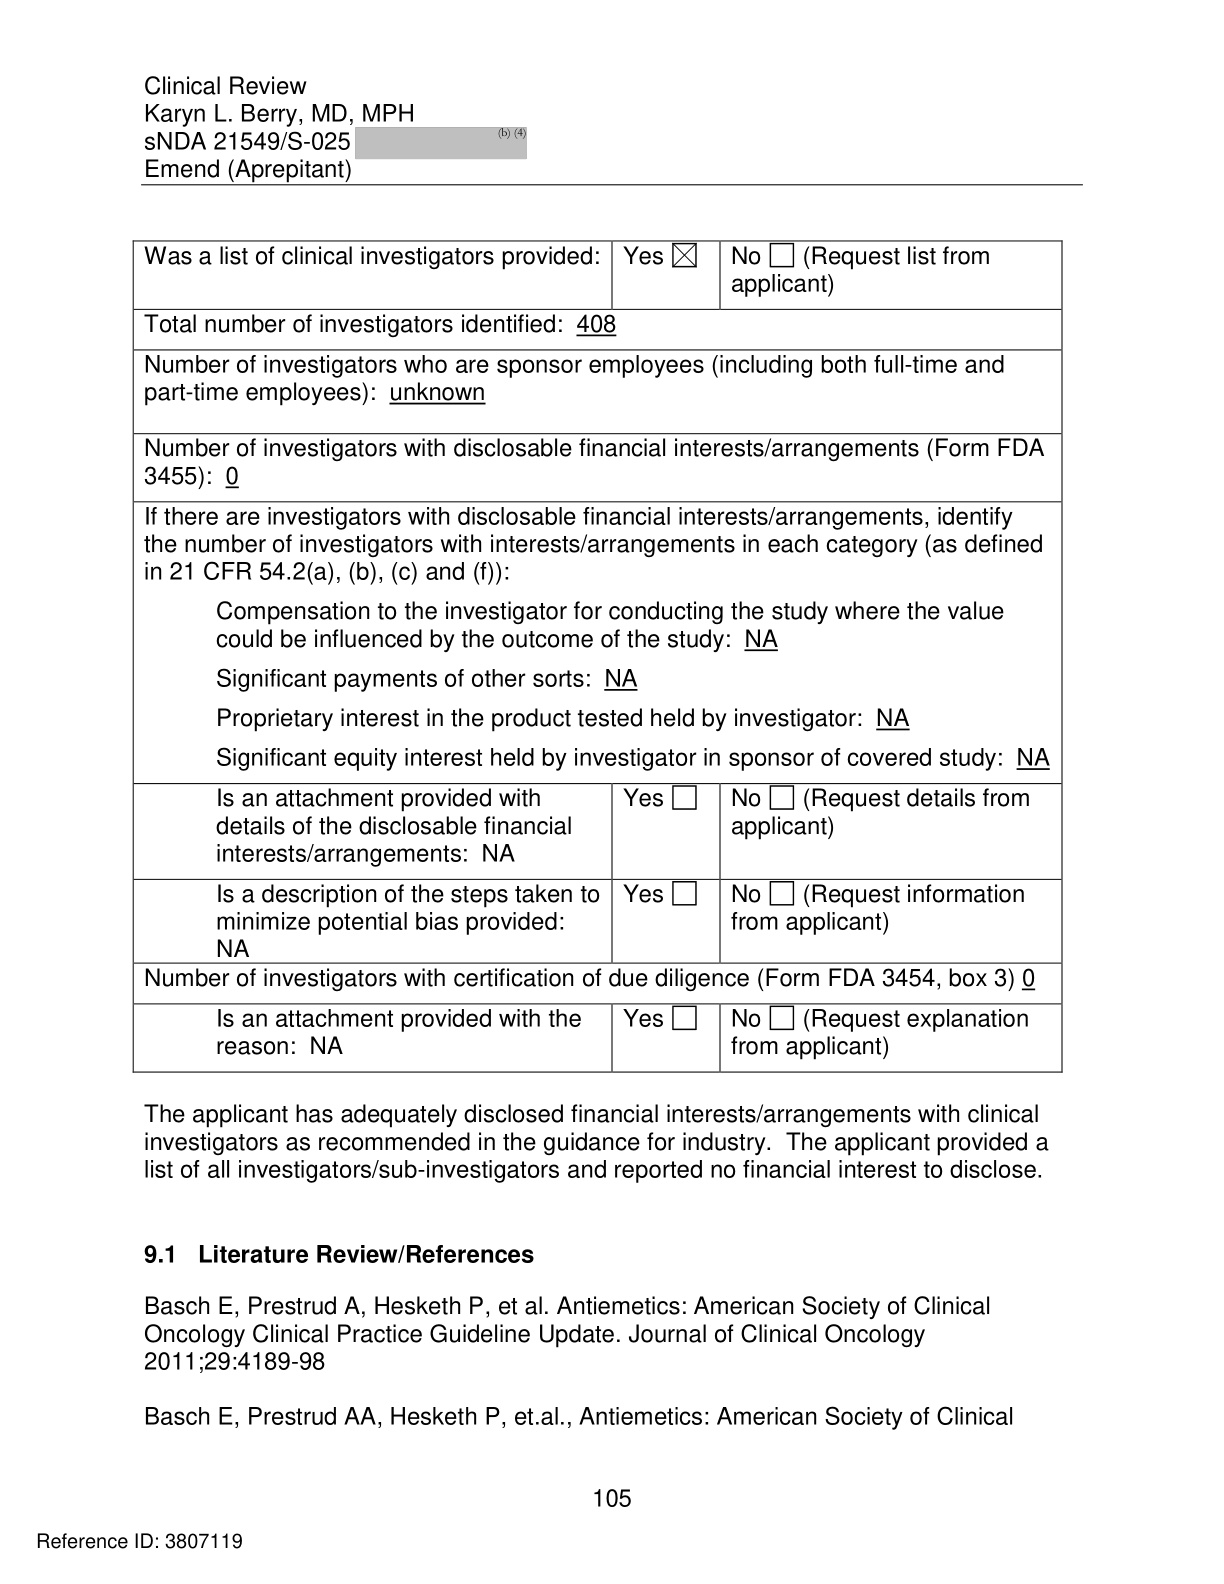merged_cells: (132, 239, 1065, 1074)
